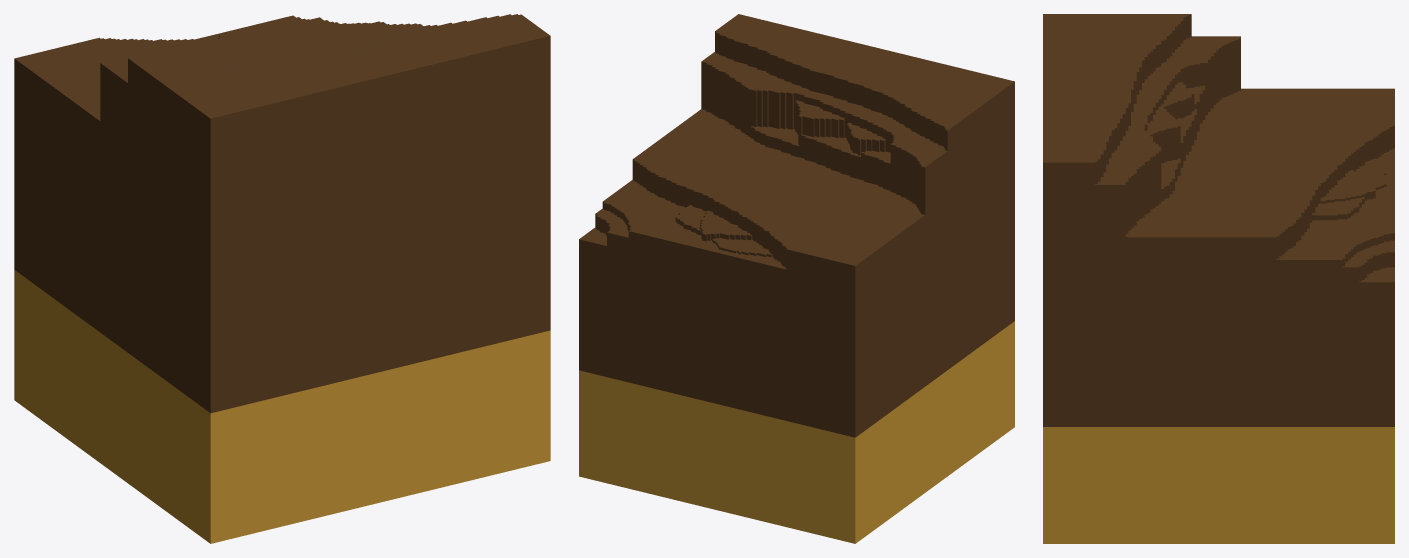
The picture shows the model from 3 angles, left to right: view 1: azimuth 30°, elevation 25°; view 2: azimuth 150°, elevation 25°; view 3: azimuth 270°, elevation 25°; orthographic projection. The views are drawn at different scales.
Visible parts, largest first — view 1: 8P; view 2: 8P; view 3: 8P.
Boxes of the visible parts, x1,y1,x2,y2 form: 8P: (14, 14, 550, 543); 8P: (579, 14, 1014, 543); 8P: (1043, 14, 1394, 543).
Bounding box in the file's own units: 12.8 × 15.3 × 12.8.
1 material, 1 textured.
